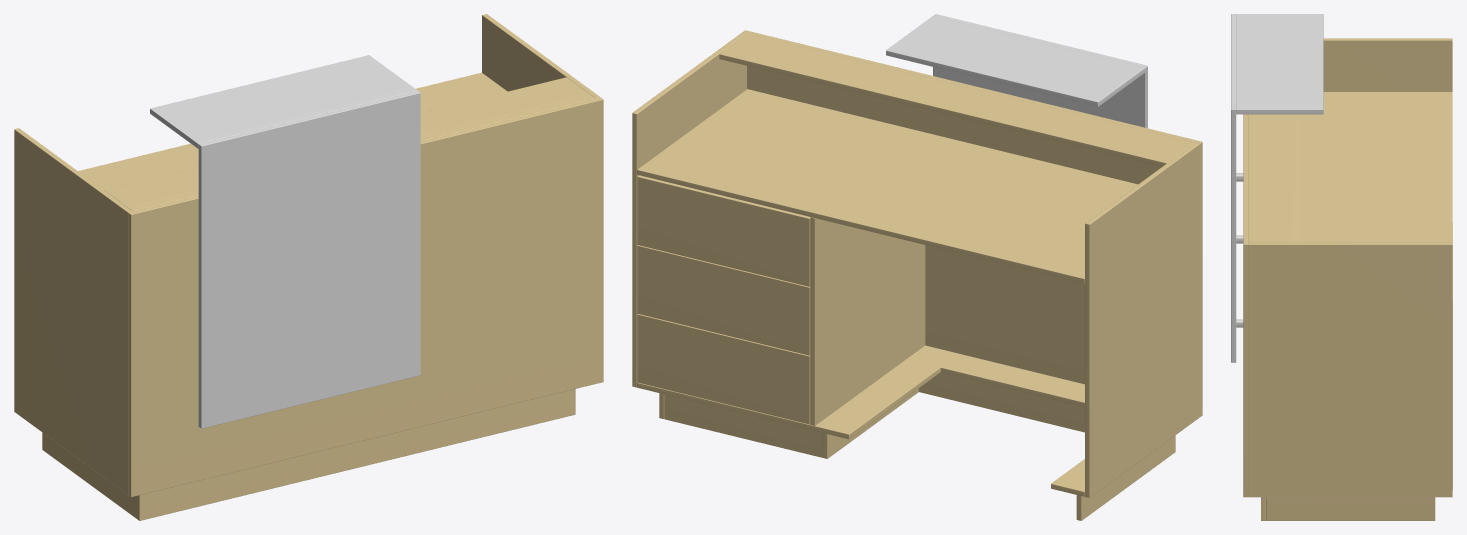
The model's file is service_rack.fbx.
3 views of the same model, side by side, from view 1: azimuth 30°, elevation 25°; view 2: azimuth 150°, elevation 25°; view 3: azimuth 270°, elevation 25° (orthographic). The views are drawn at different scales.
Visible parts, largest first — view 1: service_rack, service_rack_panel; view 2: service_rack, service_rack_panel, service_rack_box2, service_rack_box, service_rack_box1; view 3: service_rack, service_rack_panel.
Part boxes in pixels (<box>): service_rack: <box>14,14,603,520</box>; service_rack_panel: <box>150,55,420,428</box>; service_rack: <box>632,30,1202,520</box>; service_rack_panel: <box>886,14,1147,128</box>; service_rack_box2: <box>637,175,810,286</box>; service_rack_box: <box>637,314,810,424</box>; service_rack_box1: <box>637,245,810,355</box>; service_rack: <box>1243,38,1452,520</box>; service_rack_panel: <box>1231,14,1323,362</box>.
Size of the model in its own units: 140 by 106 by 63.6.
